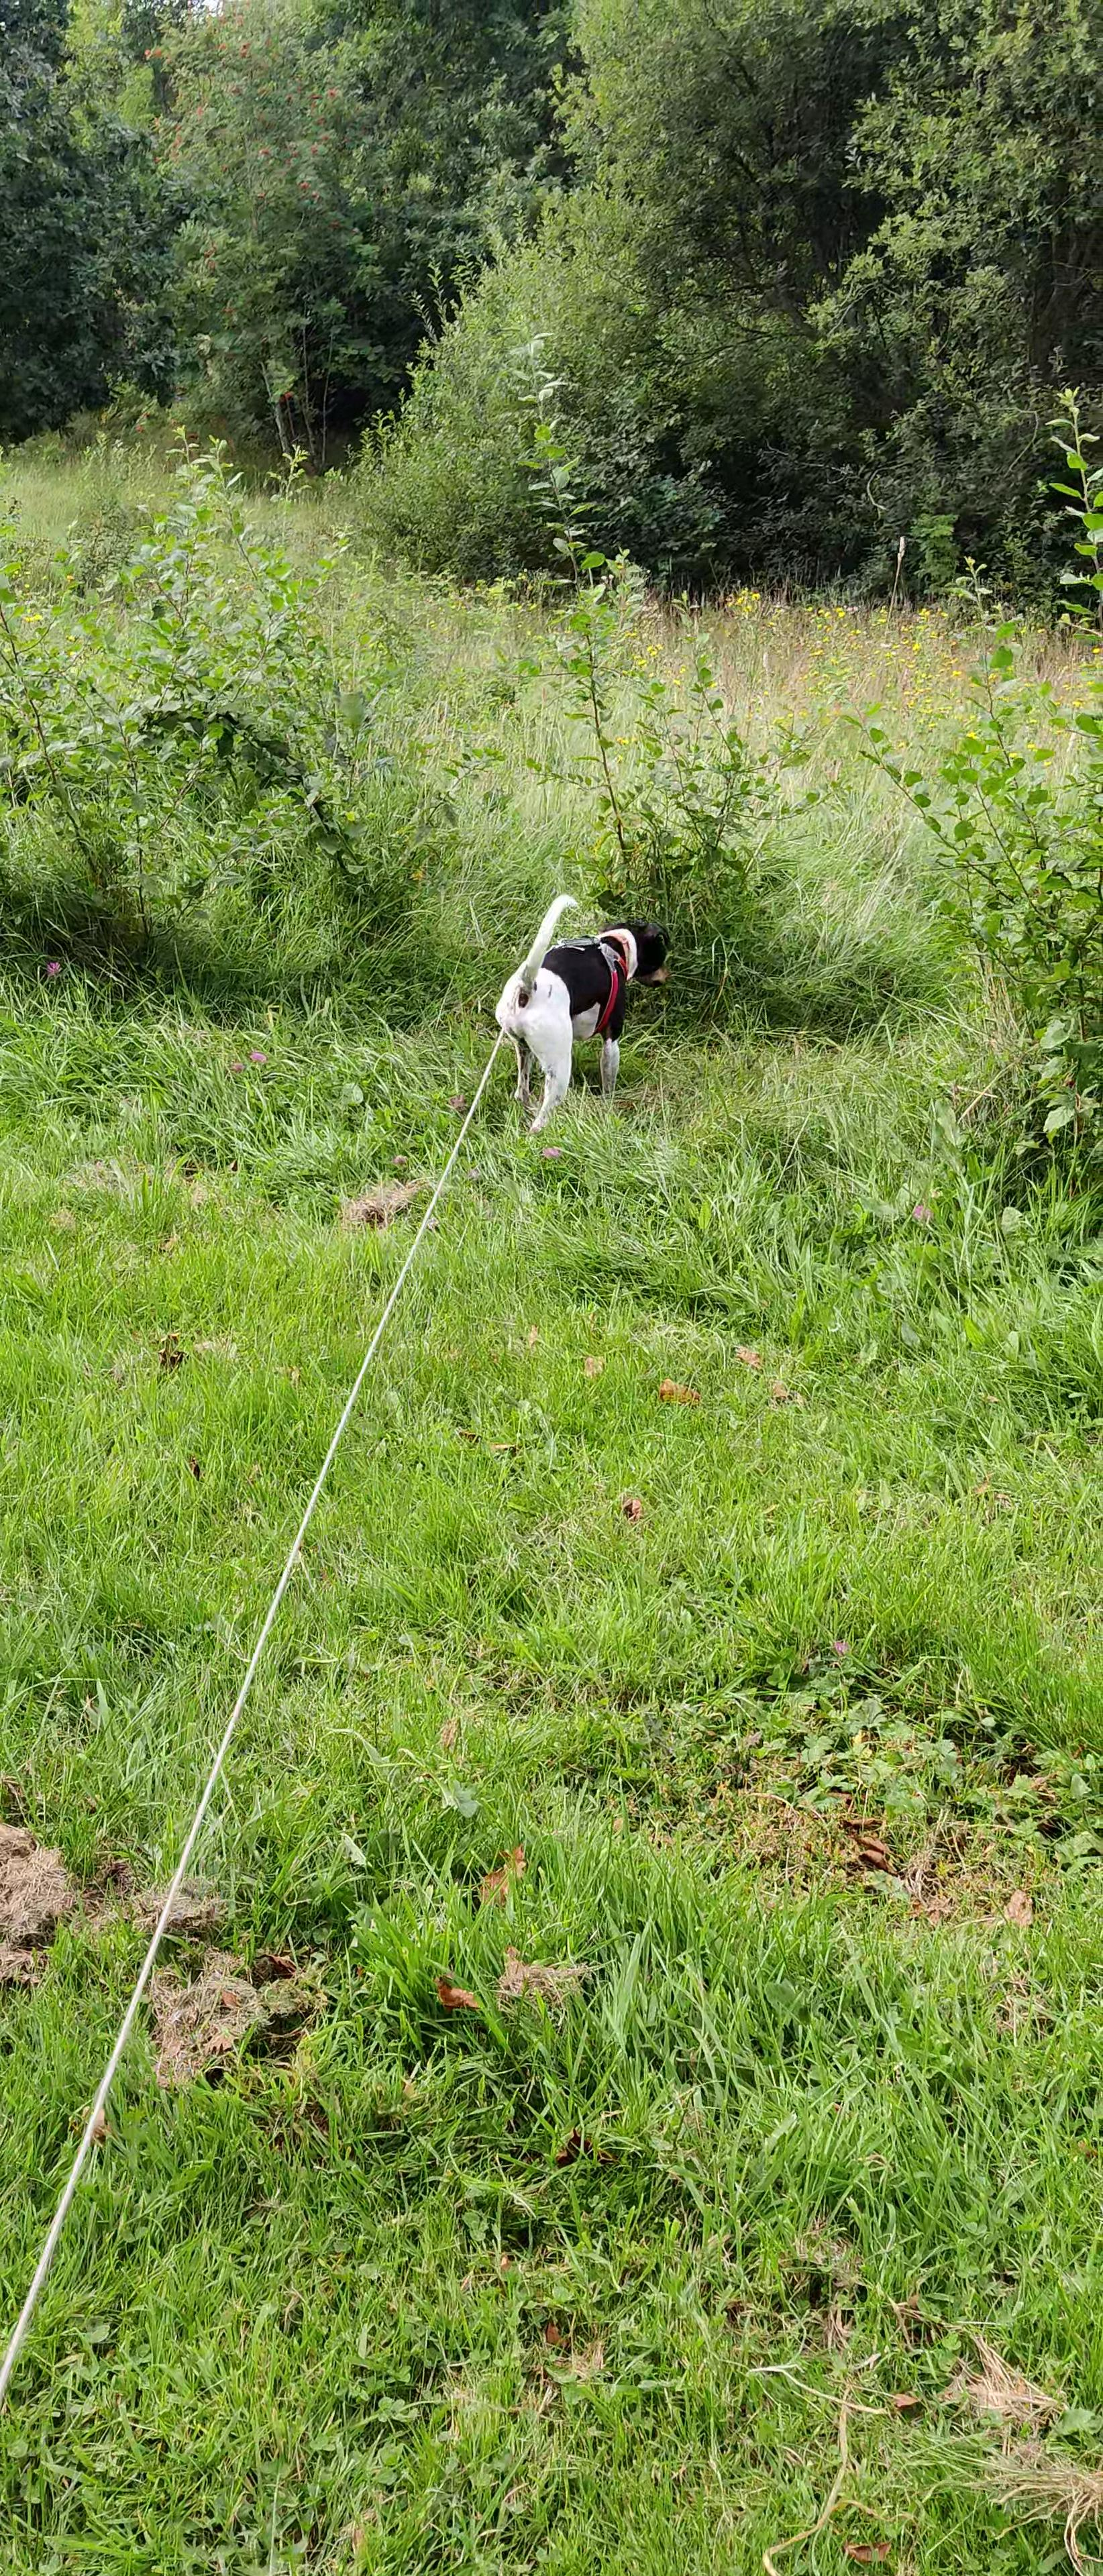Dog: (477, 882, 690, 1153)
